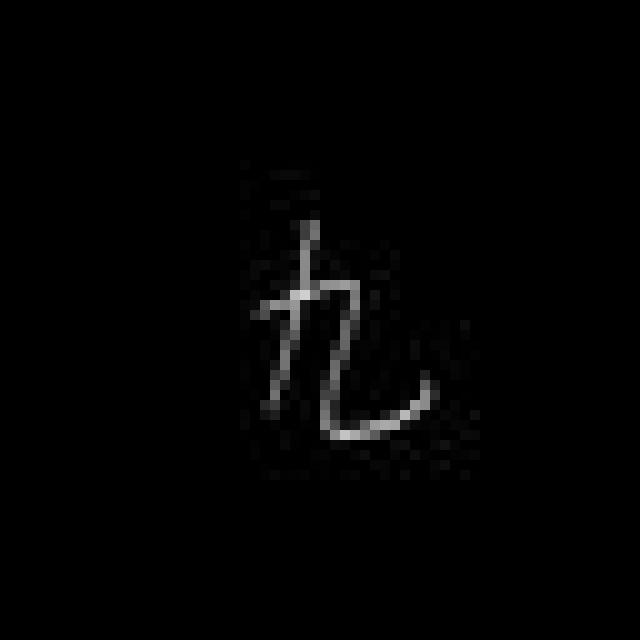9 -nine-: (255, 213, 440, 448)
